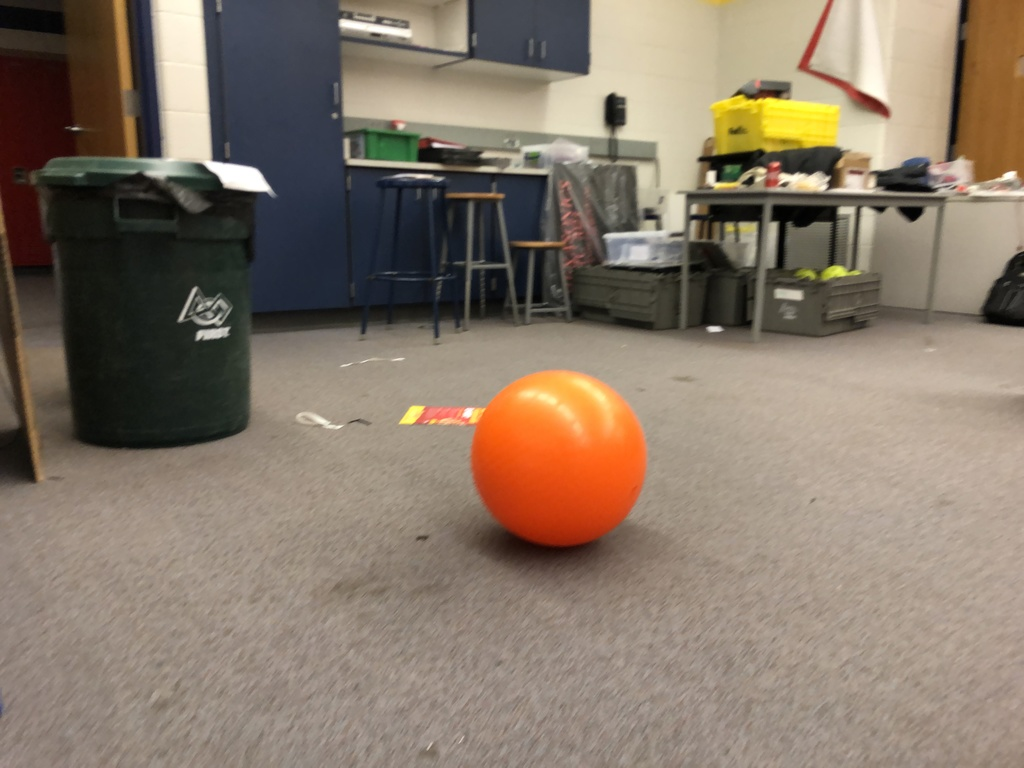cargo: (462, 360, 655, 558)
